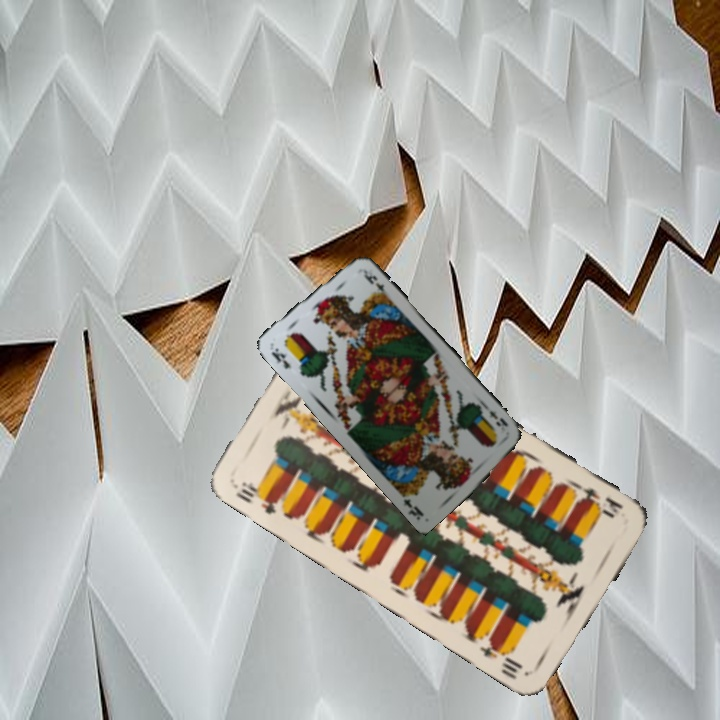E10: (570, 481, 626, 521), (231, 477, 282, 517)
EK: (267, 344, 294, 372), (485, 406, 510, 429)
